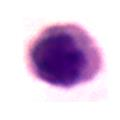lymphocyte: (21, 21, 107, 90)
